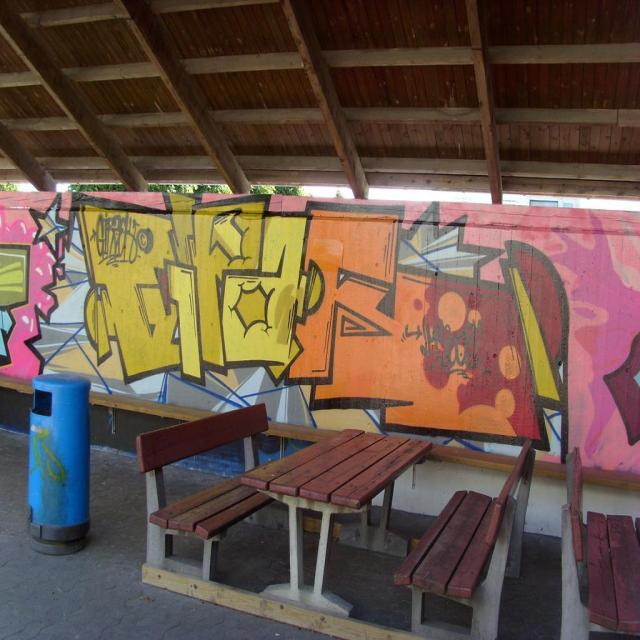table: (244, 428, 433, 617)
